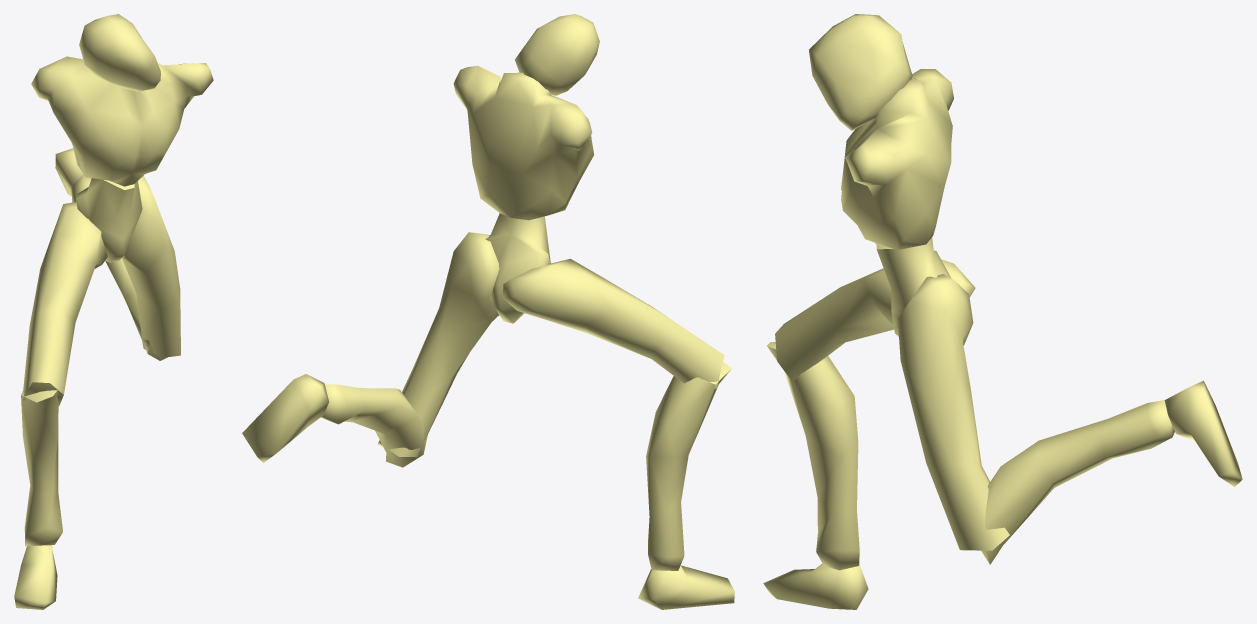
The model's file is filth15.obj.
3 views of the same model, side by side, from view 1: azimuth 30°, elevation 25°; view 2: azimuth 150°, elevation 25°; view 3: azimuth 270°, elevation 25° (orthographic). The views are drawn at different scales.
Parts seen in each view (by area): view 1: Melee_Husk; view 2: Melee_Husk; view 3: Melee_Husk.
Part boxes in pixels (x1=…): Melee_Husk: x1=14, y1=14, x2=213, y2=609; Melee_Husk: x1=242, y1=14, x2=734, y2=609; Melee_Husk: x1=763, y1=14, x2=1242, y2=609.
Bounding box in the file's own units: 37.54 × 70.3 × 47.78.
